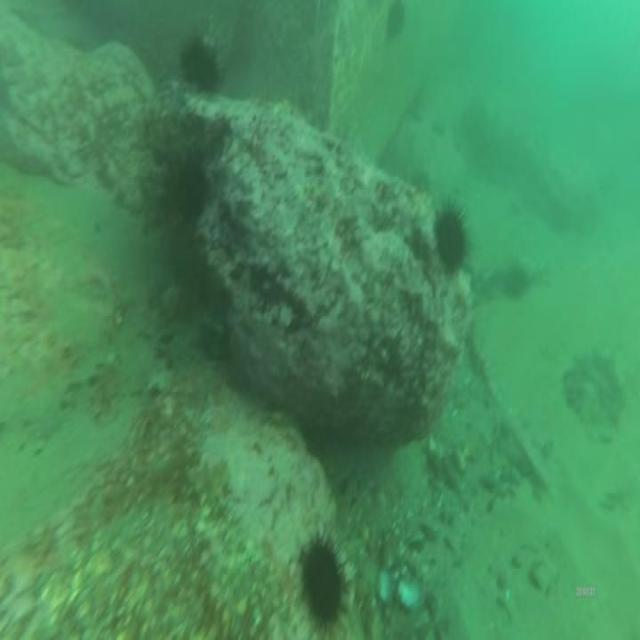echinus: (296, 518, 356, 640), (429, 192, 476, 284), (175, 30, 230, 101), (174, 152, 206, 221)
